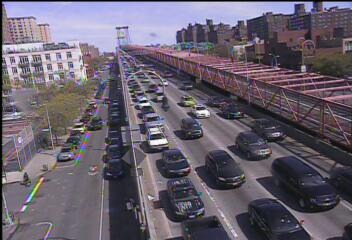neg: (51, 46, 71, 73), (60, 143, 79, 168), (49, 93, 59, 107), (87, 143, 96, 155), (84, 109, 93, 121), (117, 24, 125, 34)
pos: (19, 171, 31, 187), (41, 134, 52, 149)
